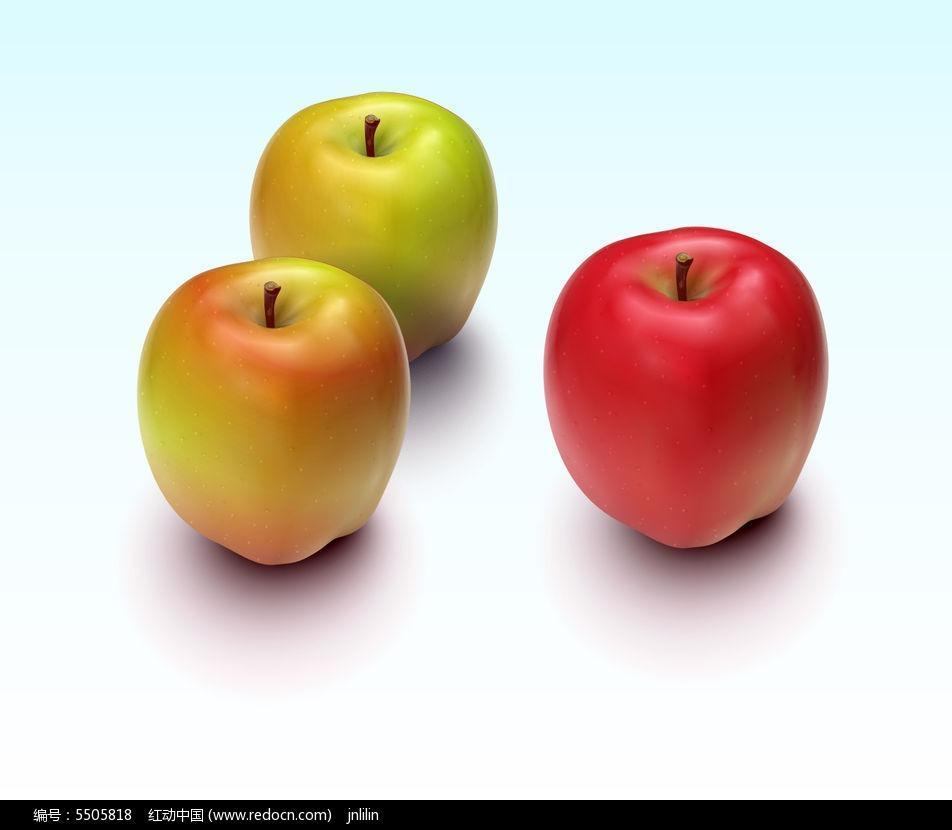apple: (545, 225, 833, 552), (135, 259, 413, 574), (251, 91, 496, 359)
